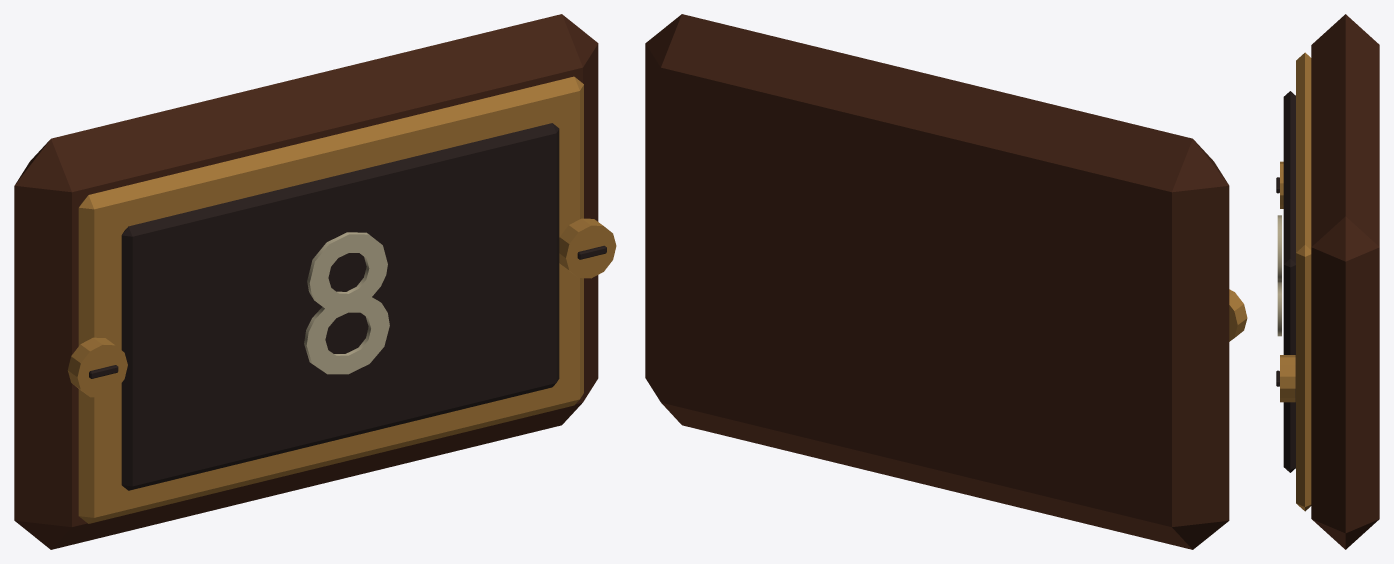
File: RoomPlaque_08.glb
The picture shows the model from 3 angles, left to right: view 1: azimuth 30°, elevation 25°; view 2: azimuth 150°, elevation 25°; view 3: azimuth 270°, elevation 25°; orthographic projection. The views are drawn at different scales.
Parts seen in each view (by area): view 1: DarkEnamel.007, OakPlaque.007, BrassInset.007, RoomNumber.007, BrassScrew.016, BrassScrew.017; view 2: OakPlaque.007; view 3: OakPlaque.007, BrassInset.007, DarkEnamel.007, BrassScrew.017, RoomNumber.007, BrassScrew.016.
Boxes of the visible parts, x1,y1,x2,y2 form: DarkEnamel.007: (121, 123, 559, 490); OakPlaque.007: (14, 14, 598, 549); BrassInset.007: (78, 76, 583, 523); RoomNumber.007: (304, 232, 389, 374); BrassScrew.016: (67, 337, 127, 397); BrassScrew.017: (559, 218, 616, 278); OakPlaque.007: (645, 14, 1229, 549); OakPlaque.007: (1311, 14, 1379, 549); BrassInset.007: (1296, 52, 1311, 511); DarkEnamel.007: (1283, 91, 1295, 472); BrassScrew.017: (1280, 355, 1295, 402); RoomNumber.007: (1277, 215, 1281, 336); BrassScrew.016: (1280, 161, 1283, 208).
Size of the model in its own units: 1.04 by 0.7 by 0.197.
